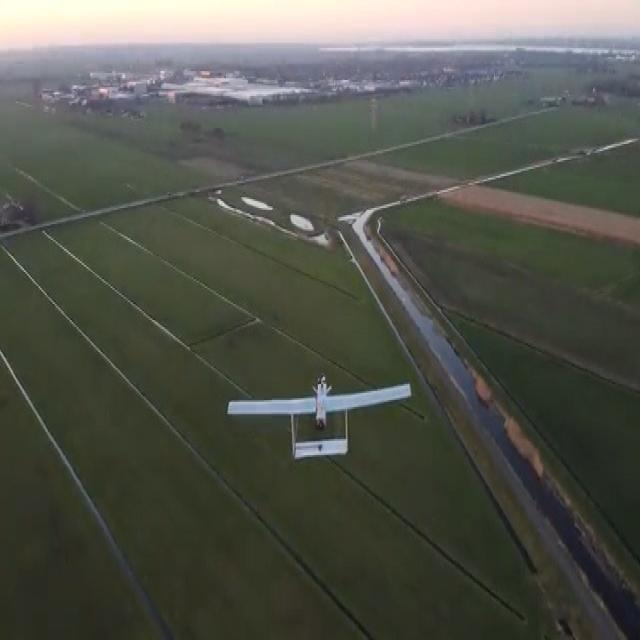iha: (232, 416, 414, 432)
